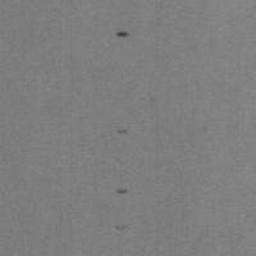Inclusion: (114, 187, 129, 196), (114, 224, 128, 232), (115, 31, 129, 38), (118, 129, 129, 134)
